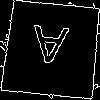A: (26, 24, 70, 74)
